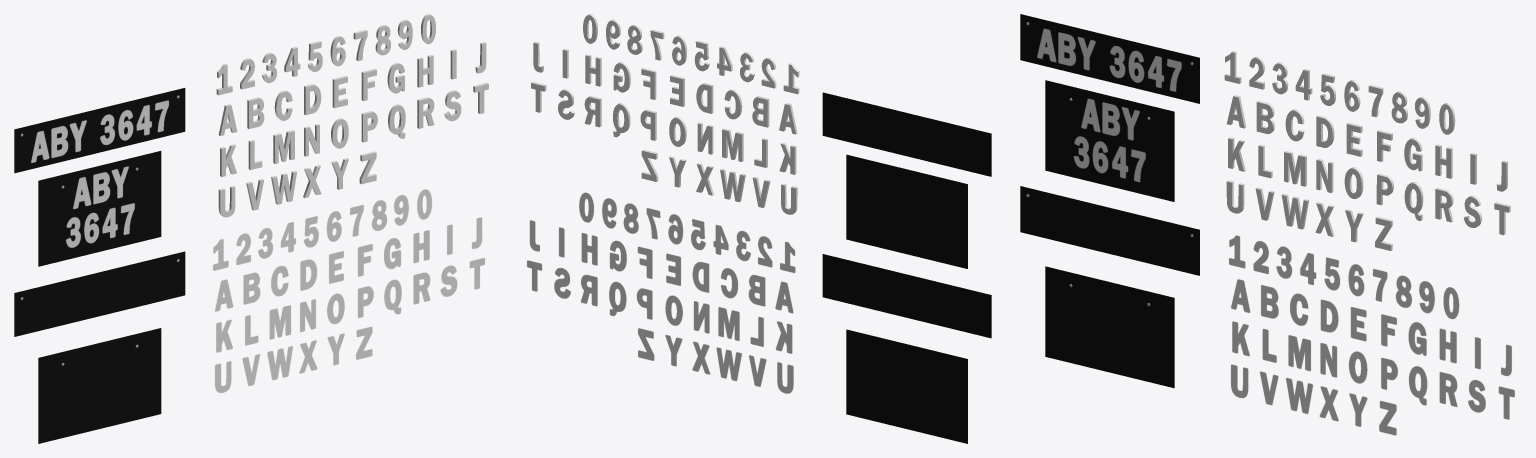
The model's file is Alphabet_and_number_with_car_plate.gltf.
The picture shows the model from 3 angles, left to right: view 1: azimuth 30°, elevation 25°; view 2: azimuth 150°, elevation 25°; view 3: azimuth 330°, elevation 25°; orthographic projection. The views are drawn at different scales.
Visible parts, largest first — view 1: NumberPlateTwoRow, SampleNumberPlateTwoRow, NumberPlateOneRow, SampleNumberPlateOneRow, M, DecalAlphabet_M, W, DecalAlphabet_W, DecalAlphabet_B, B; view 2: NumberPlateTwoRow, SampleNumberPlateTwoRow, NumberPlateOneRow, SampleNumberPlateOneRow, M, DecalAlphabet_M, W, DecalAlphabet_W, B, DecalAlphabet_B; view 3: NumberPlateTwoRow, SampleNumberPlateTwoRow, NumberPlateOneRow, SampleNumberPlateOneRow, M, DecalAlphabet_M, W, DecalAlphabet_W, B, DecalAlphabet_B.001, DecalAlphabet_B.002, N (+5 smaller).
Part boxes in pixels (x1,y1,x2,y2): NumberPlateTwoRow: [38, 328, 161, 443]; SampleNumberPlateTwoRow: [38, 151, 161, 266]; NumberPlateOneRow: [14, 251, 185, 336]; SampleNumberPlateOneRow: [14, 88, 185, 173]; M: [273, 130, 294, 163]; DecalAlphabet_M: [269, 305, 290, 339]; W: [271, 170, 296, 204]; DecalAlphabet_W: [267, 346, 292, 380]; DecalAlphabet_B: [243, 272, 260, 304]; B: [247, 97, 264, 128]; NumberPlateTwoRow: [846, 329, 967, 443]; SampleNumberPlateTwoRow: [846, 154, 967, 268]; NumberPlateOneRow: [822, 254, 991, 338]; SampleNumberPlateOneRow: [822, 92, 991, 176]; M: [722, 128, 743, 161]; DecalAlphabet_M: [718, 307, 739, 340]; W: [720, 168, 745, 202]; DecalAlphabet_W: [716, 347, 741, 381]; B: [752, 96, 769, 127]; DecalAlphabet_B: [748, 274, 765, 306]; NumberPlateTwoRow: [1045, 266, 1174, 388]; SampleNumberPlateTwoRow: [1045, 80, 1174, 201]; NumberPlateOneRow: [1020, 186, 1199, 275]; SampleNumberPlateOneRow: [1020, 14, 1199, 103]; M: [1284, 151, 1306, 186]; DecalAlphabet_M: [1288, 335, 1310, 371]; W: [1281, 193, 1308, 229]; DecalAlphabet_W: [1286, 378, 1312, 413]; B: [1256, 100, 1274, 133]; DecalAlphabet_B.001: [1058, 32, 1075, 65]; DecalAlphabet_B.002: [1102, 102, 1119, 135]; N: [1316, 158, 1333, 192].
Size of the model in its own units: 0.8461 by 0.5722 by 0.015.
2 materials, 2 textured.
